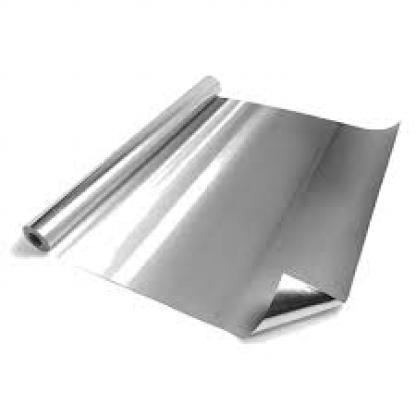METAL: (22, 72, 400, 337)
